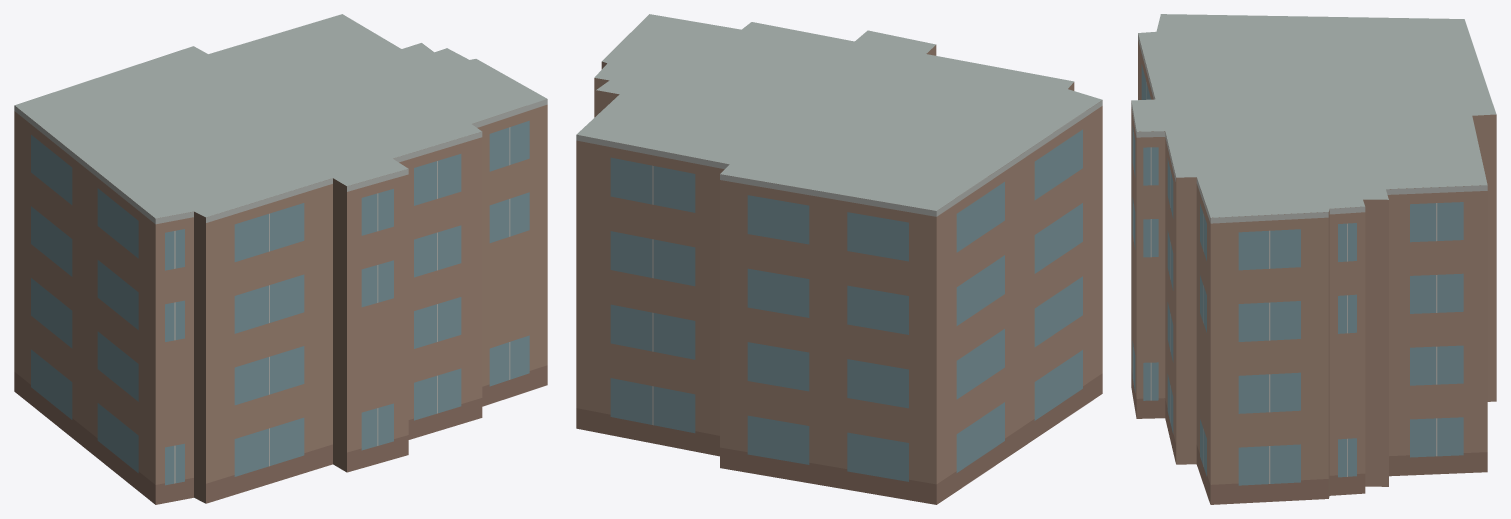
The model's file is survey-upis-33042096.glb.
3 views of the same model, side by side, from view 1: azimuth 30°, elevation 25°; view 2: azimuth 150°, elevation 25°; view 3: azimuth 270°, elevation 25° (orthographic). The views are drawn at different scales.
Parts seen in each view (by area): view 1: survey-upis-33042096.tmp; view 2: survey-upis-33042096.tmp; view 3: survey-upis-33042096.tmp.
Part boxes in pixels (bbox=[...]): survey-upis-33042096.tmp: bbox=[14, 14, 547, 504]; survey-upis-33042096.tmp: bbox=[576, 14, 1102, 504]; survey-upis-33042096.tmp: bbox=[1131, 14, 1496, 504].
Size of the model in its own units: 18.59 by 12.2 by 14.07.
